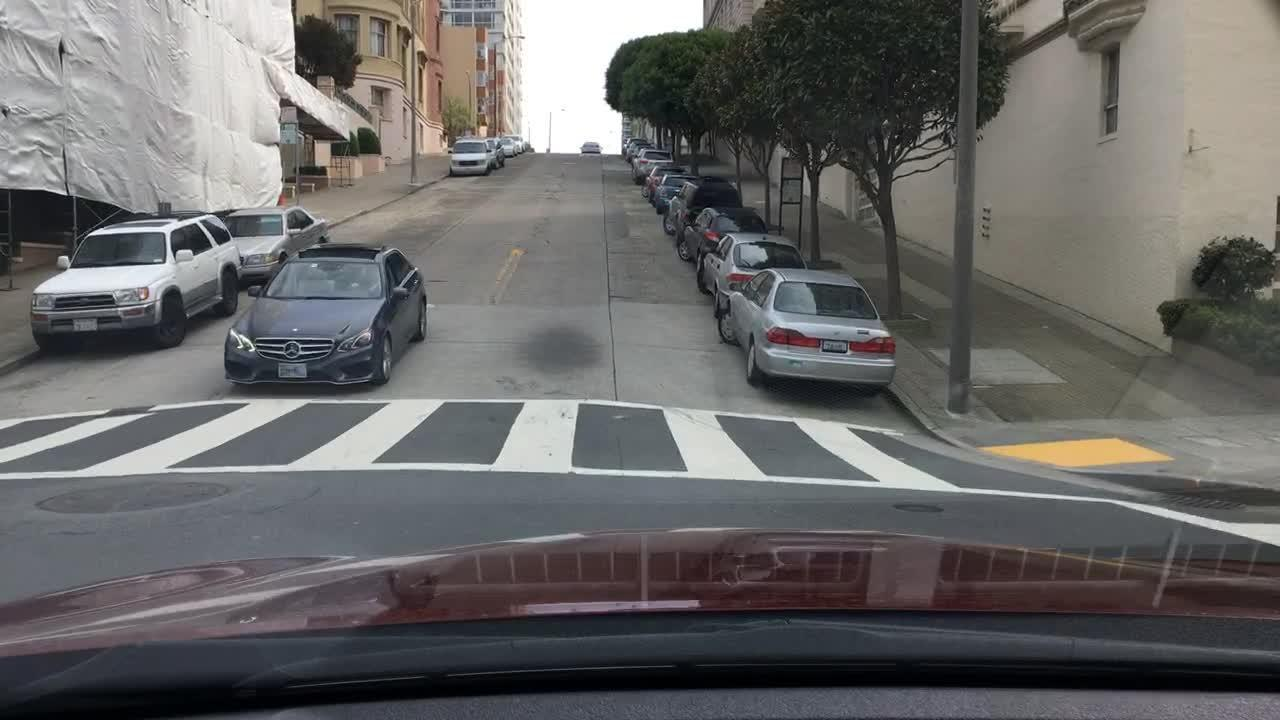Mercedes: (281, 340, 302, 360)
